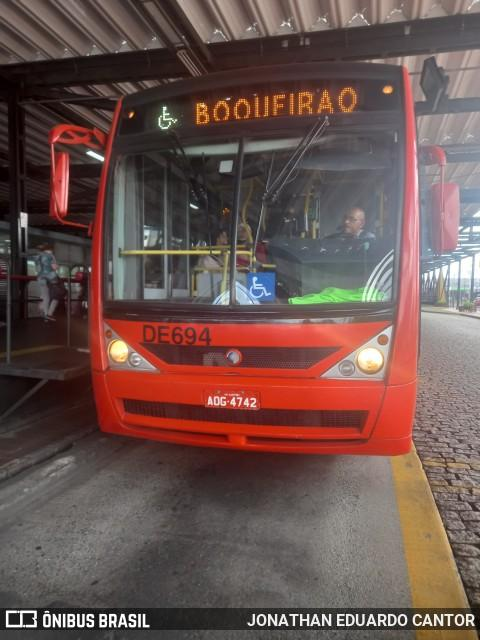BOQUEIRAO: (188, 82, 361, 128)
